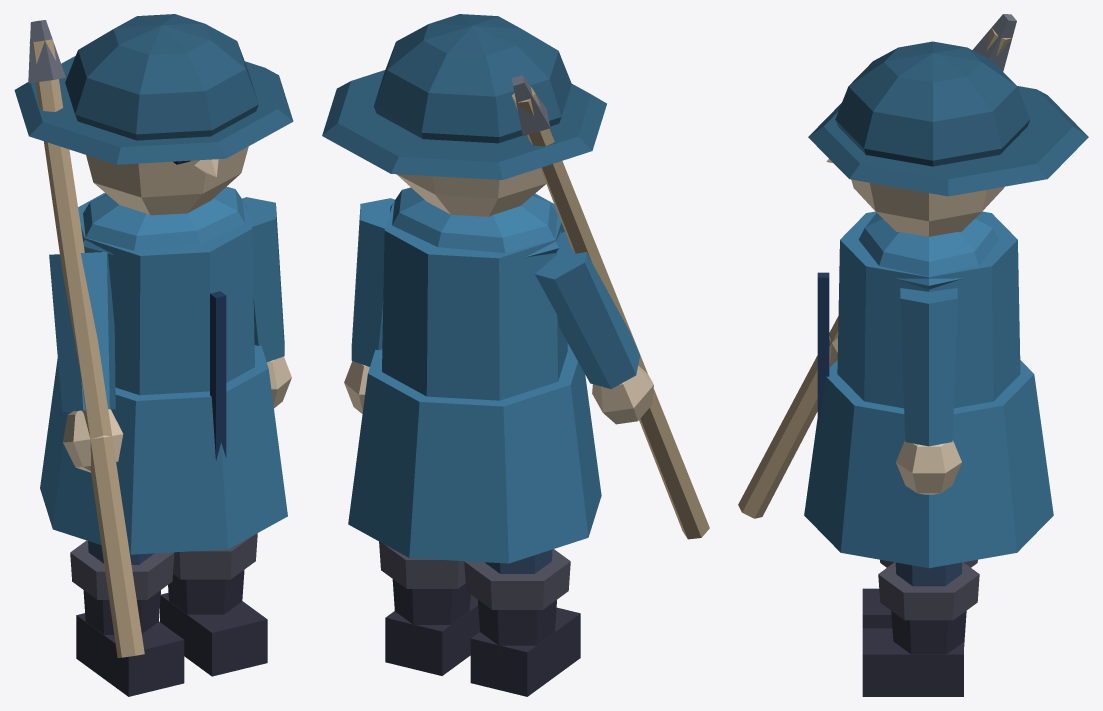
Rendered from tam.glb.
The picture shows the model from 3 angles, left to right: view 1: azimuth 30°, elevation 25°; view 2: azimuth 150°, elevation 25°; view 3: azimuth 270°, elevation 25°; orthographic projection. The views are drawn at different scales.
Parts seen in each view (by area): view 1: Torso, Head, ArmR, LegL, LegR, ArmL; view 2: Torso, Head, ArmR, LegR, LegL, ArmL; view 3: Torso, Head, LegL, ArmL, ArmR, LegR.
Part boxes in pixels (x1,y1,x2,y2): Torso: (40, 186, 287, 554); Head: (14, 14, 293, 215); ArmR: (28, 20, 144, 657); LegL: (160, 533, 267, 676); LegR: (70, 540, 184, 696); ArmL: (242, 197, 291, 408); Torso: (348, 187, 601, 563); Head: (322, 14, 606, 216); ArmR: (512, 75, 709, 539); LegR: (464, 549, 580, 696); LegL: (379, 541, 479, 675); ArmL: (344, 198, 394, 413); Torso: (804, 211, 1053, 568); Head: (808, 41, 1088, 236); LegL: (862, 562, 979, 696); ArmL: (896, 288, 961, 494); ArmR: (738, 14, 1016, 518); LegR: (862, 559, 977, 628).
Size of the model in its own units: 0.7515 by 1.73 by 0.8993.
